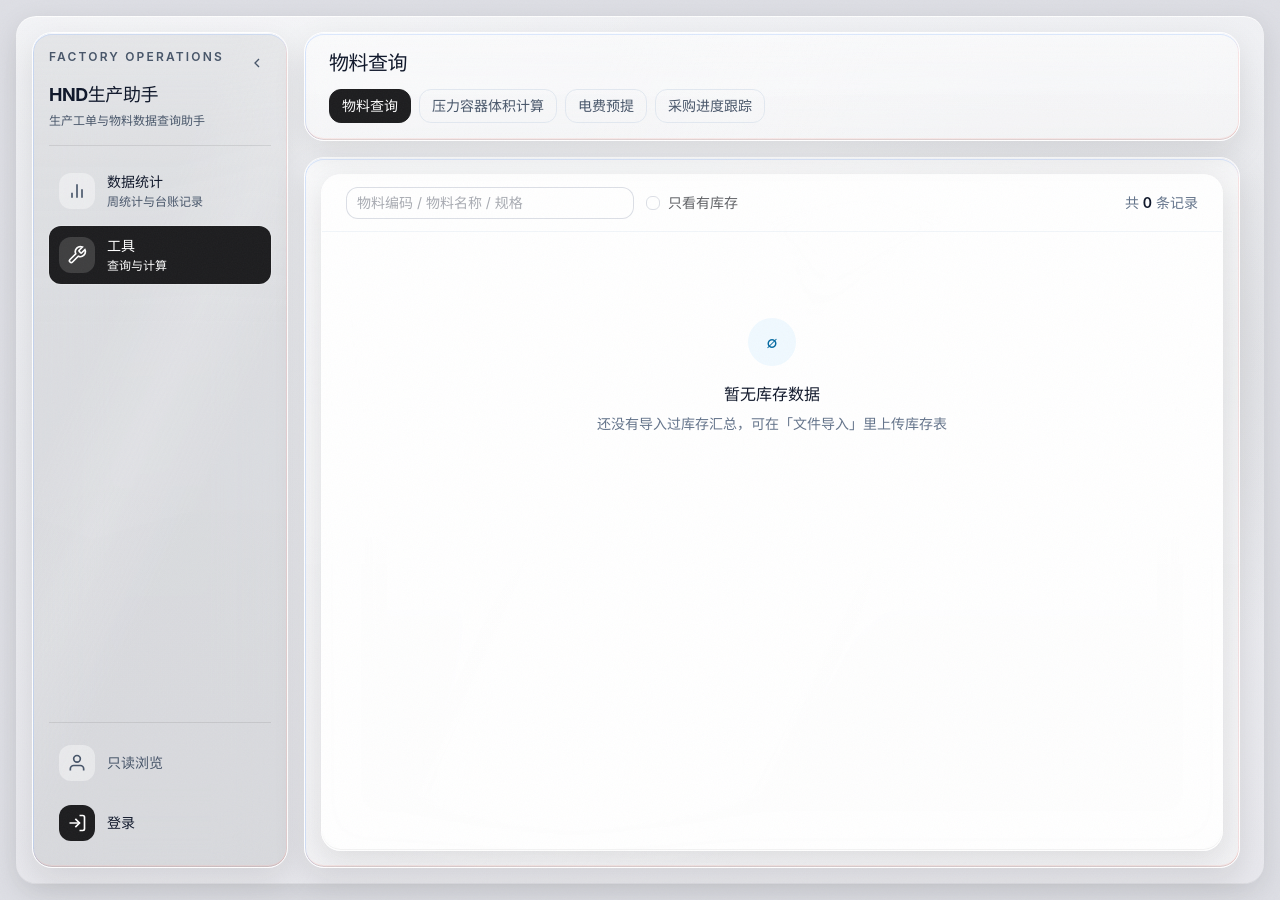
Test: WorkOrderList 页面冒烟 › 月底储罐液位记录：库里一条都没有时，「新增一行」入口仍然在
Click the button "数据统计 周统计与台账记录".
click(160, 191)  # box left=49, top=162, right=271, bottom=220
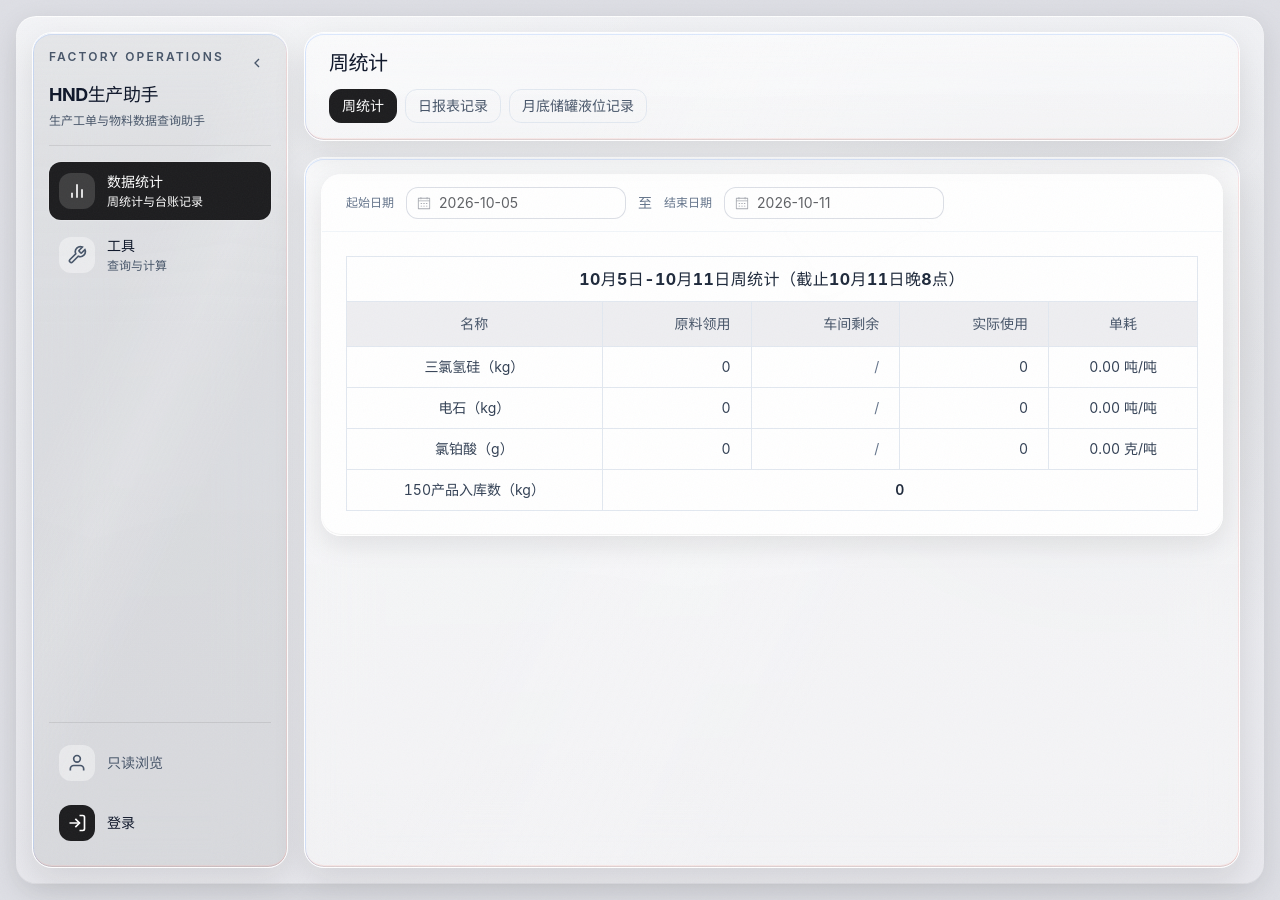
Click the button "月底储罐液位记录".
click(578, 106)  # box left=509, top=89, right=647, bottom=123
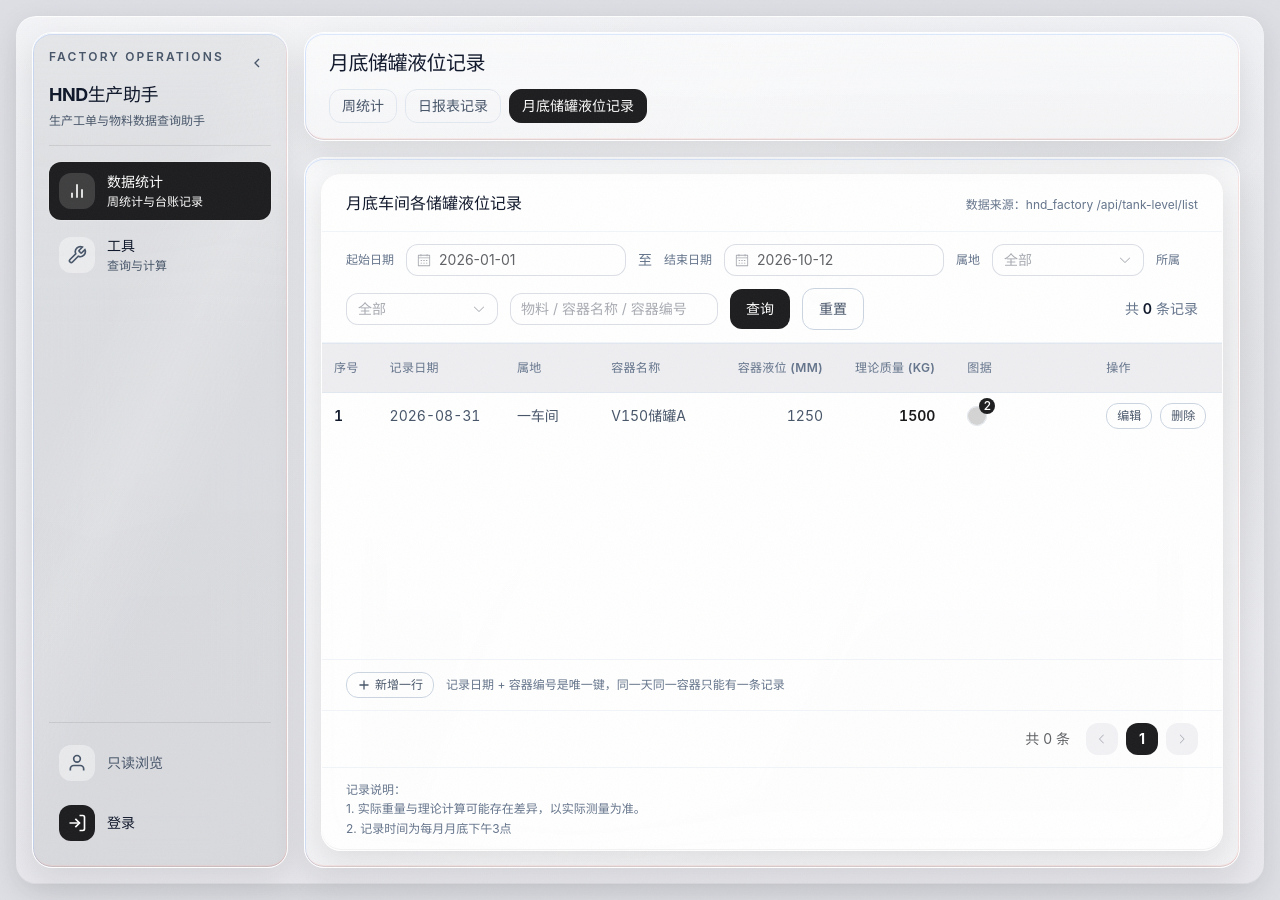
Click the button "查询".
click(760, 309)  # box left=730, top=289, right=790, bottom=329
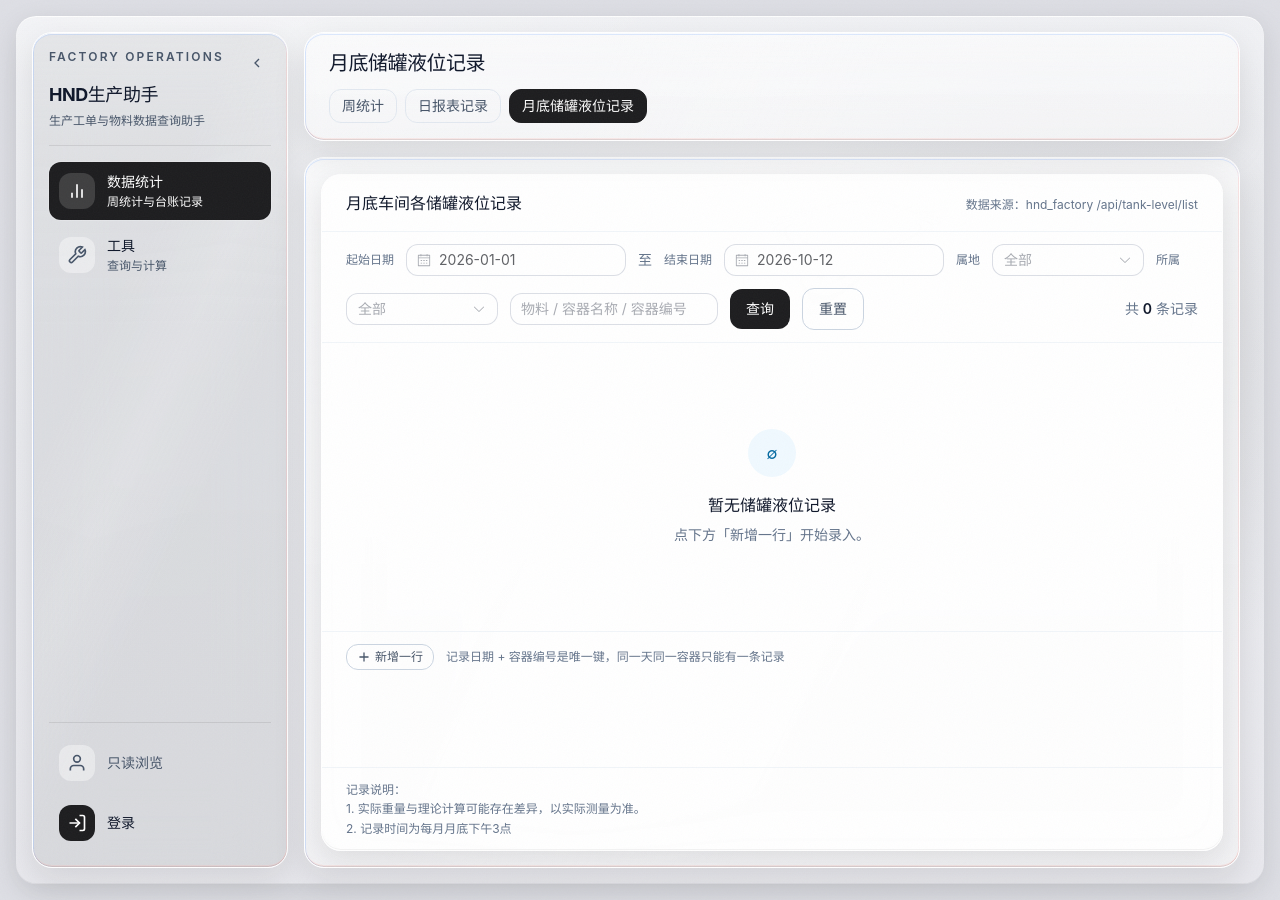
expect the button "新增一行" is shown: met
expect the element that starts with "月底车间各储罐液位记录" shows "暂无储罐液位记录": met, box left=708, top=495, right=836, bottom=515
Click the button "新增一行".
click(390, 657)  # box left=346, top=644, right=434, bottom=670
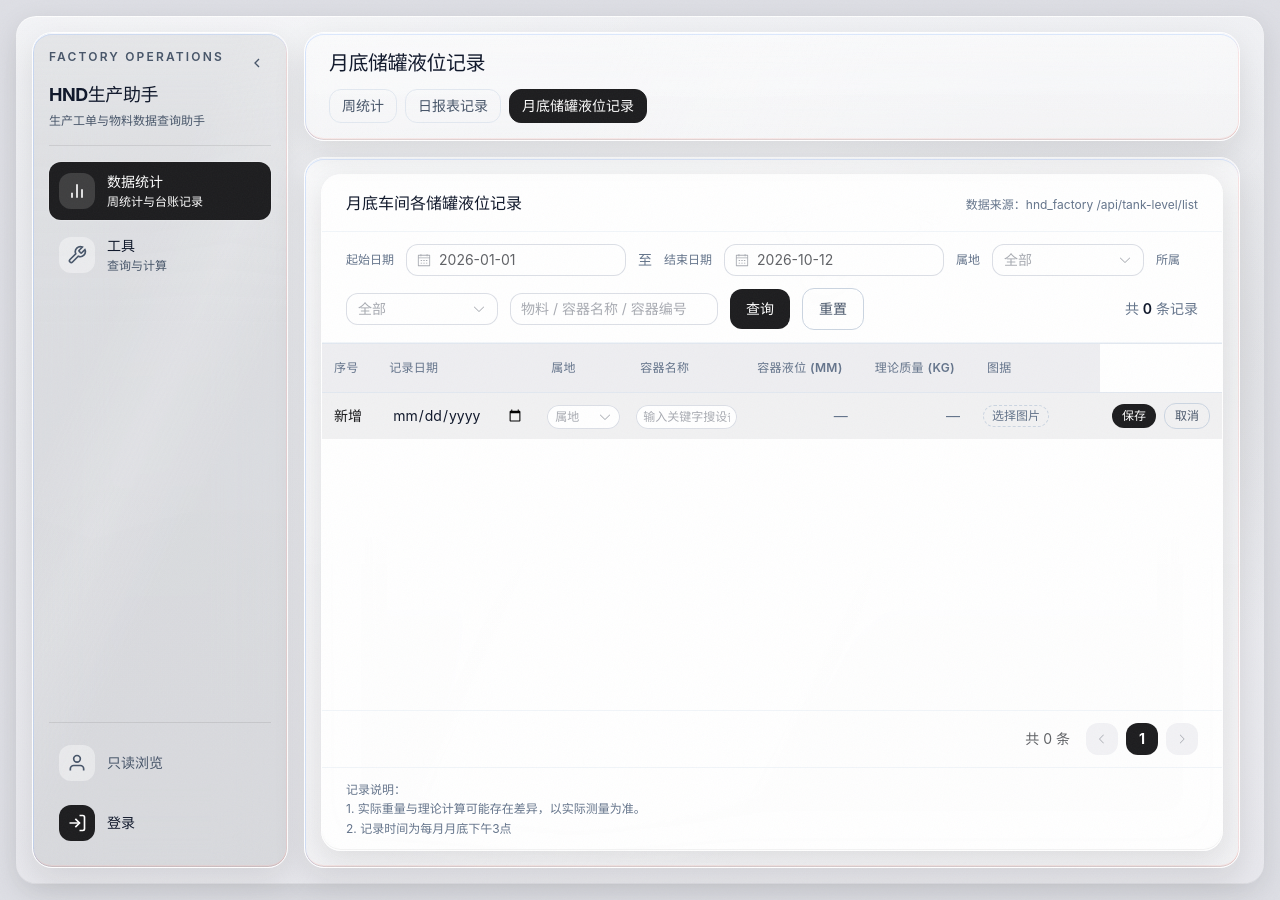
expect the element that starts with "月底车间各储罐液位记录" shows "选择图片": met, box left=983, top=405, right=1049, bottom=427
